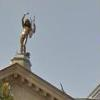Statue: (9, 7, 43, 73)
